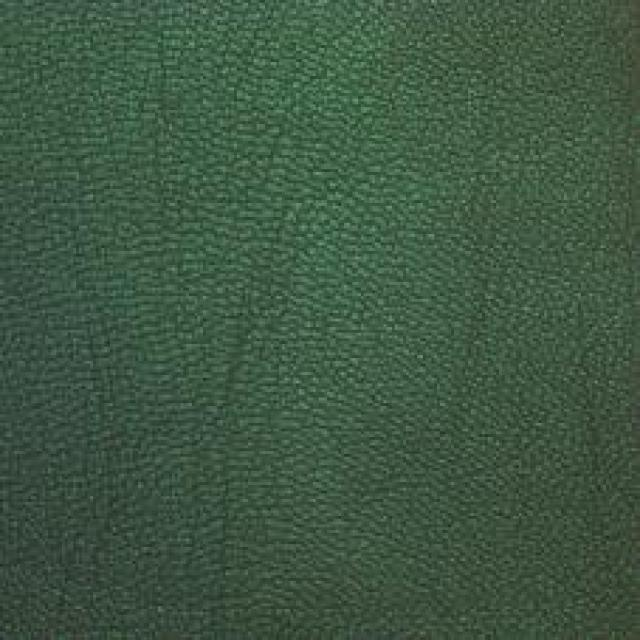Growth Marks: (199, 177, 325, 490), (50, 265, 176, 575), (523, 306, 620, 519)
